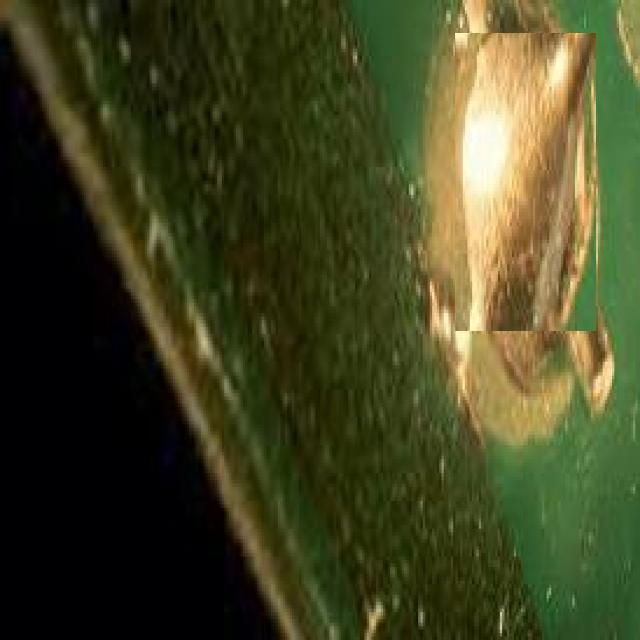redundant: (455, 34, 595, 331)
